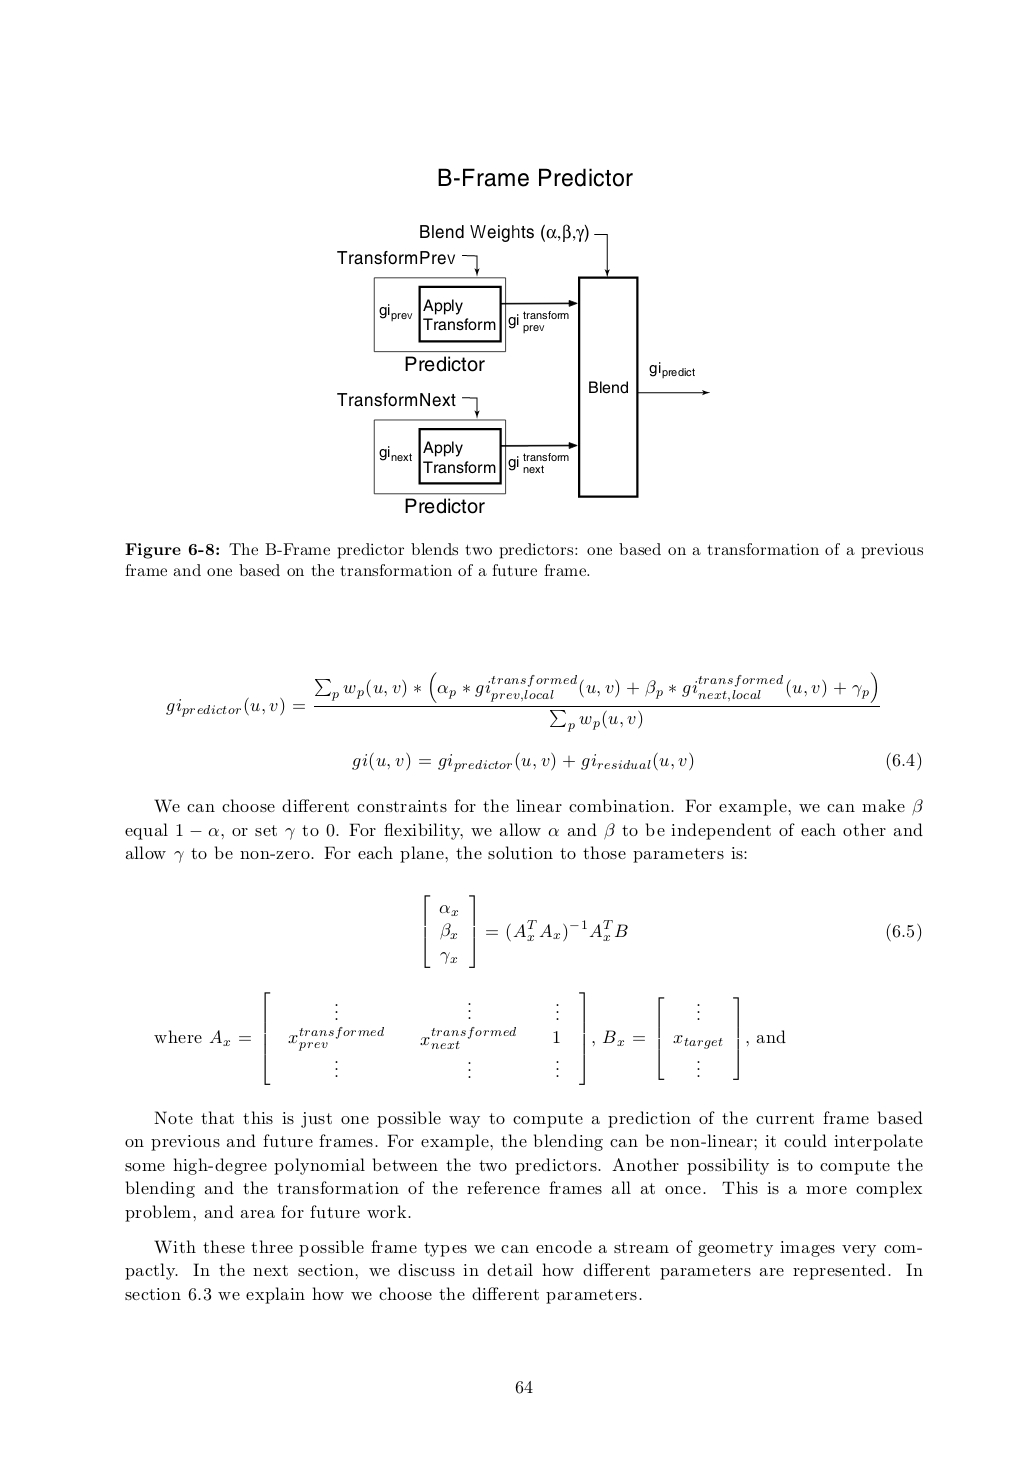figure: (337, 223, 709, 514)
formula: (154, 991, 786, 1085), (166, 671, 879, 732), (424, 893, 921, 968), (351, 751, 921, 772)
